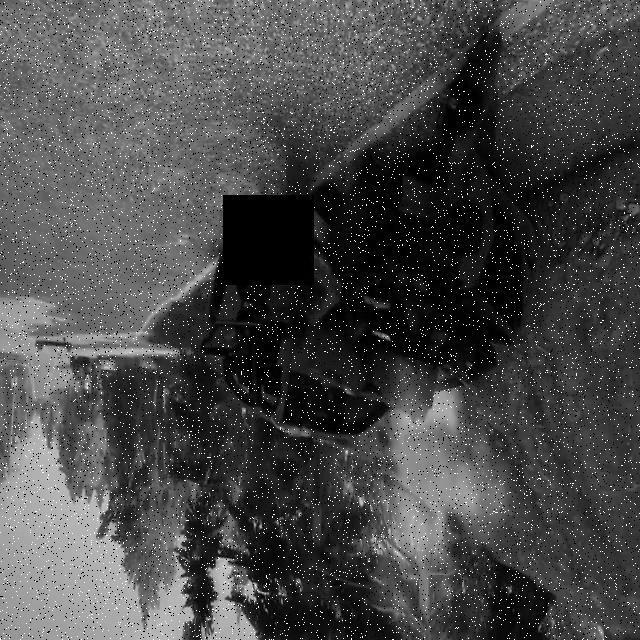vehicle: (184, 24, 553, 488)
